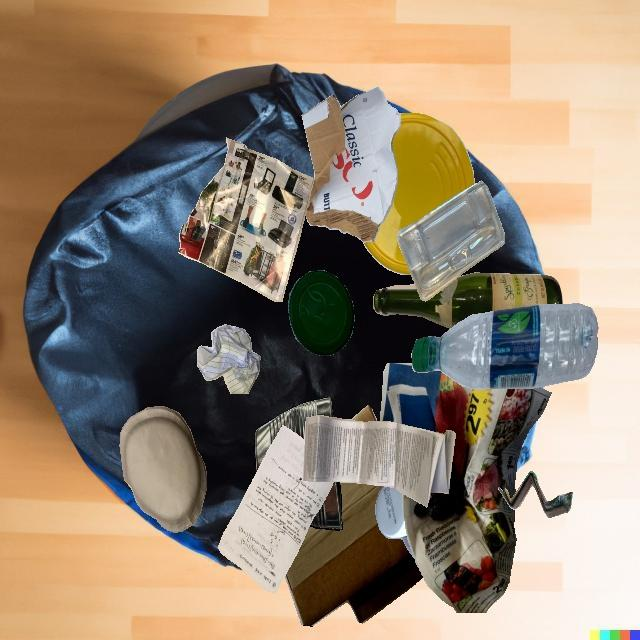cardboard: (285, 482, 423, 626), (301, 87, 401, 243), (498, 471, 573, 518)
glass: (373, 272, 563, 329)
metal: (254, 397, 334, 473), (310, 482, 342, 531)
paper: (380, 363, 551, 613), (179, 138, 314, 302), (218, 425, 334, 594), (303, 415, 455, 507), (120, 406, 207, 533), (197, 324, 261, 394)
plastic: (363, 113, 475, 274), (411, 304, 598, 389), (397, 180, 505, 301), (288, 270, 355, 356), (375, 486, 414, 558)
